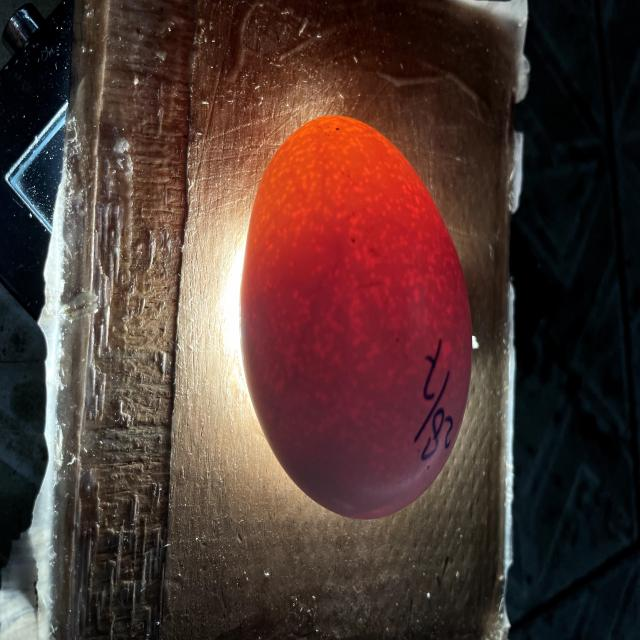fertile: (241, 117, 475, 518)
